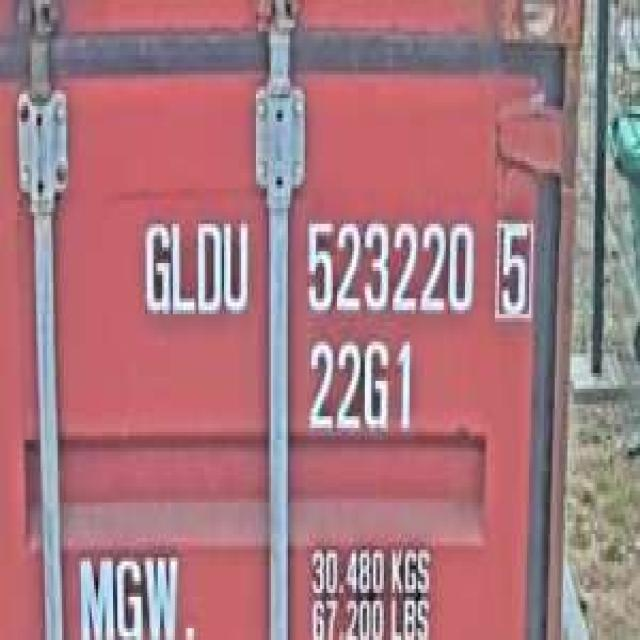dv: (491, 206, 538, 328)
owner: (136, 204, 254, 330)
serial: (299, 208, 478, 326)
size: (301, 329, 418, 444)
